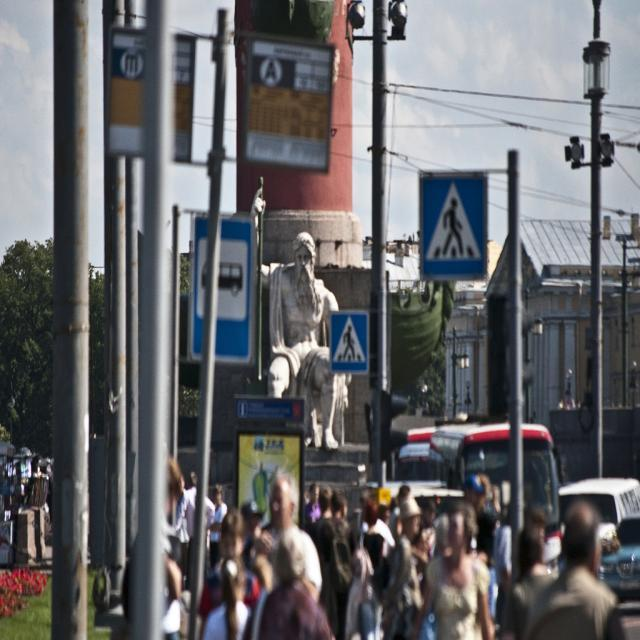obstructed_road_sign: (194, 215, 250, 358)
road_sign: (418, 172, 488, 279), (331, 312, 370, 371)
